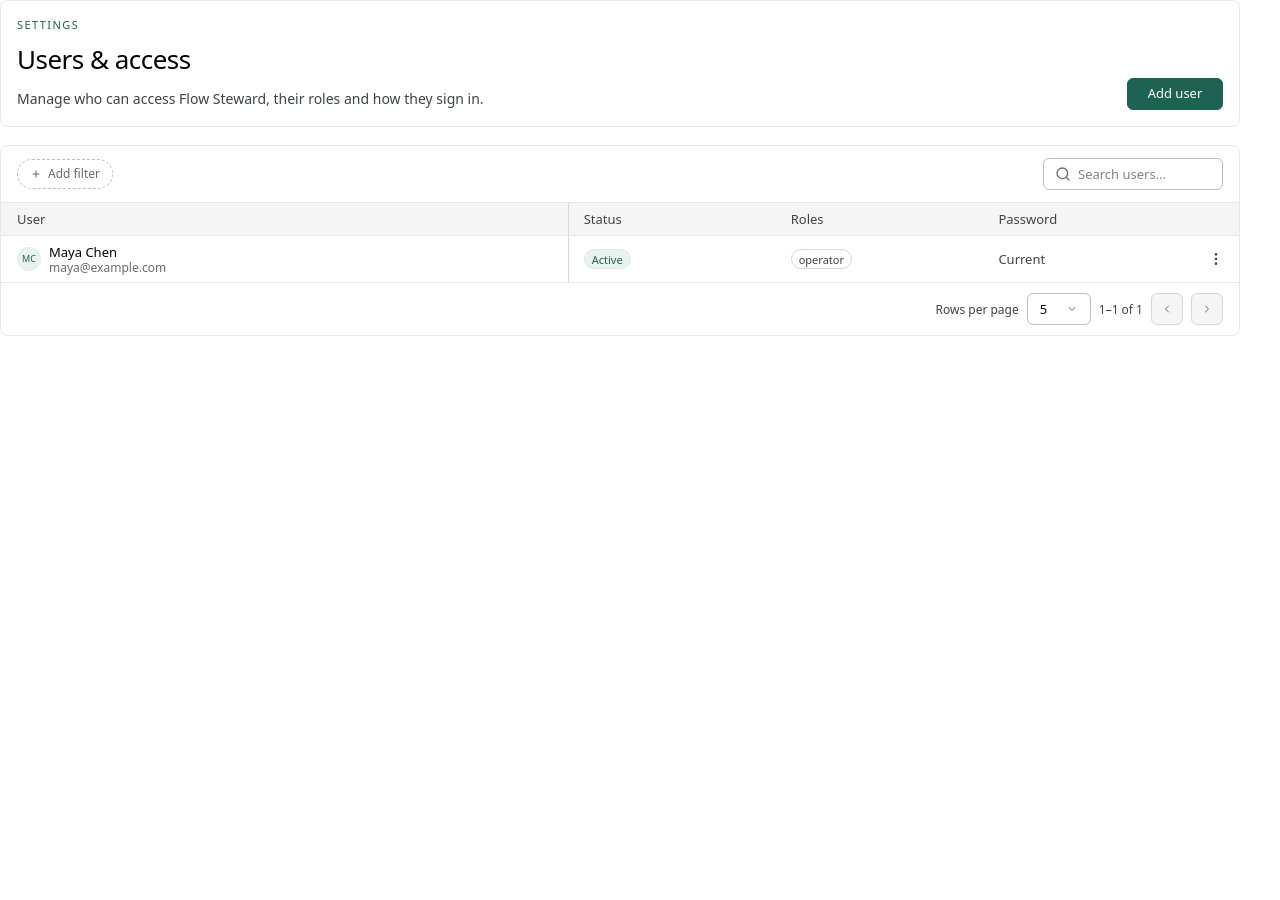
Test case: SettingsUsersPage › uses the canonical reset and deactivation confirmation consequences
Click the button named "Actions for Maya Chen" at (1216, 259), box [1200,243,1232,275]
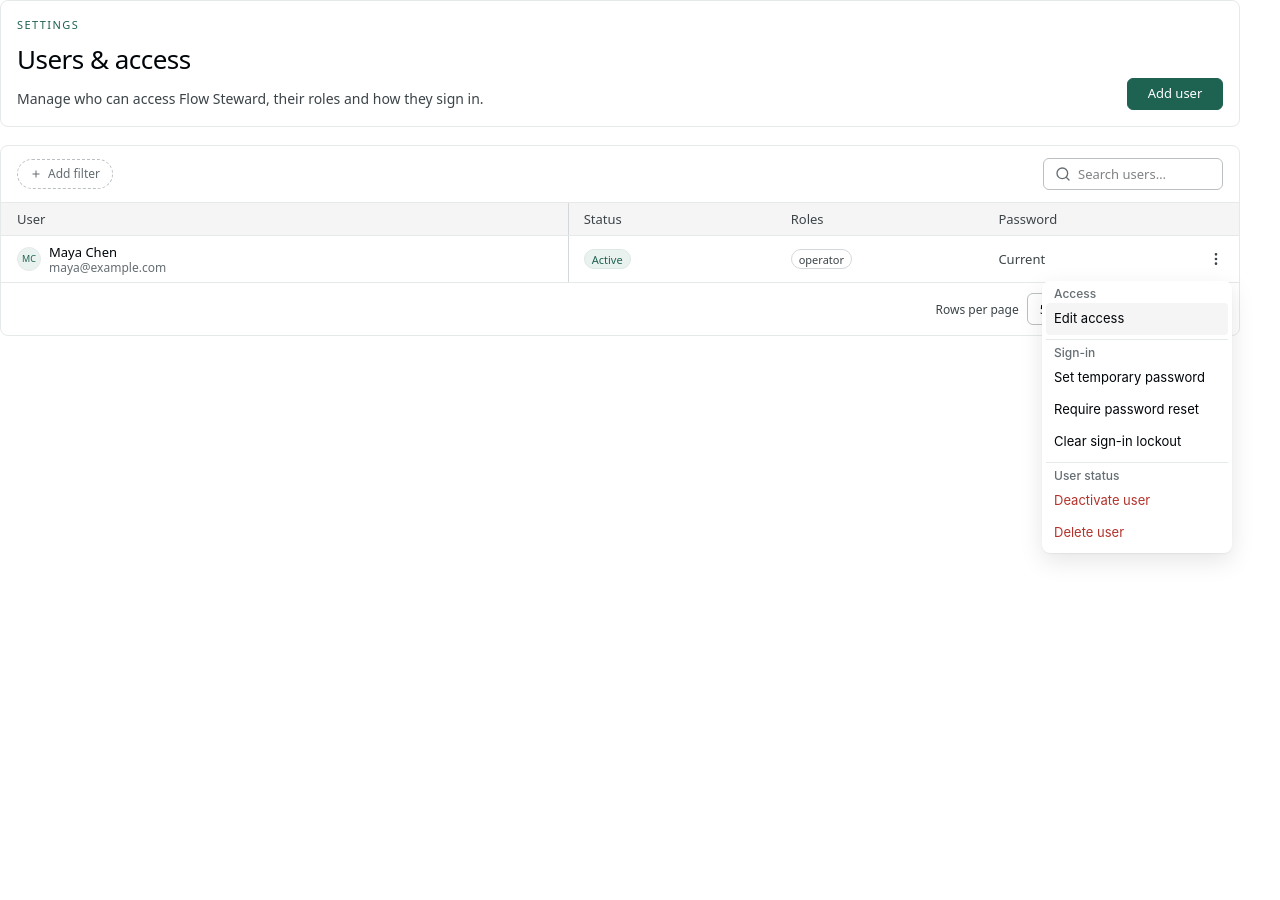
Click the menu item "Require password reset" at (1137, 410), box [1046,394,1228,426]
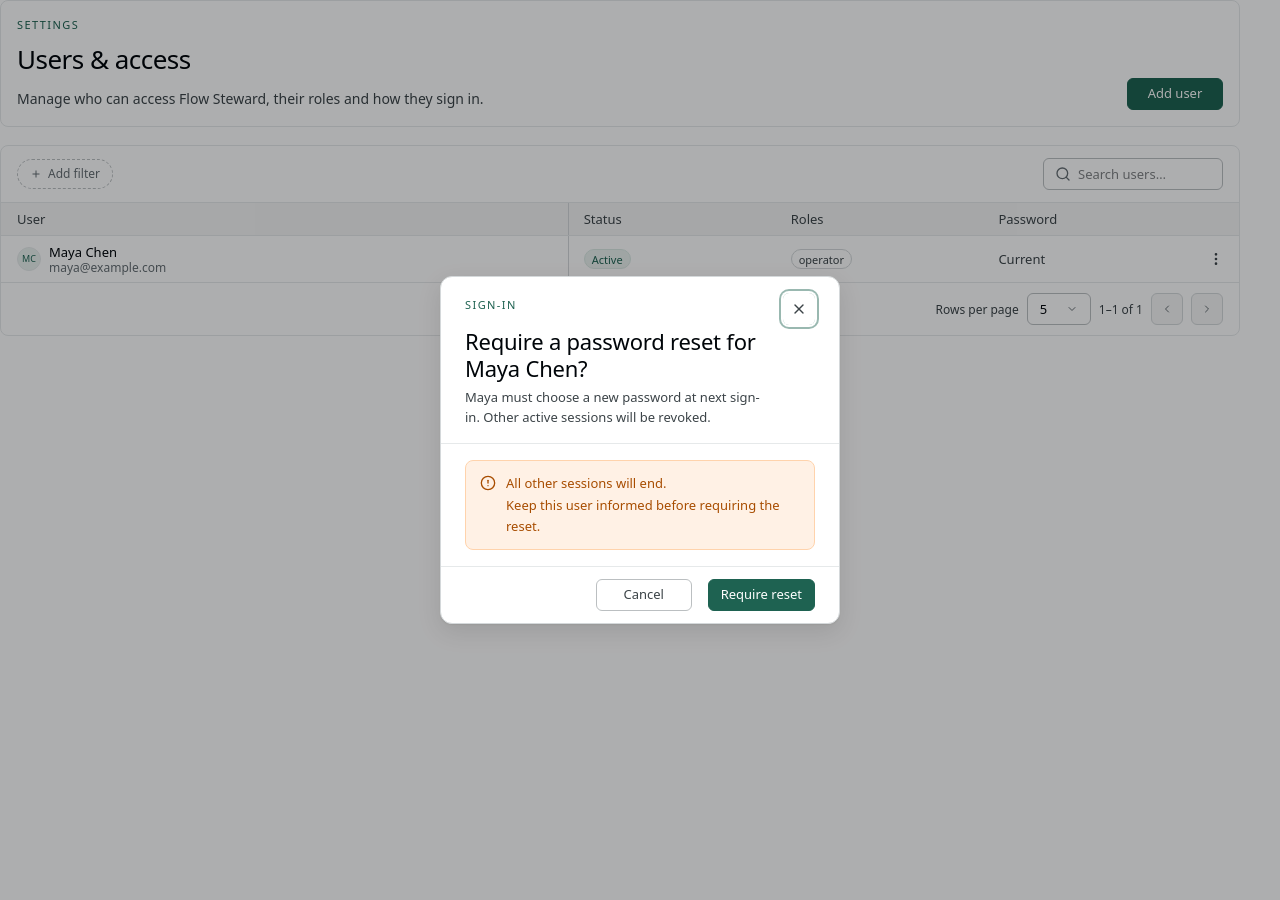
Now the text "Maya must choose a new password at next sign-in. Other active sessions will be revoked." is shown, box [465,388,760,426]
Now the text "All other sessions will end." is shown, box [506,474,666,492]
Click the button named "Close password reset confirmation" at (799, 309), box [783,293,815,325]
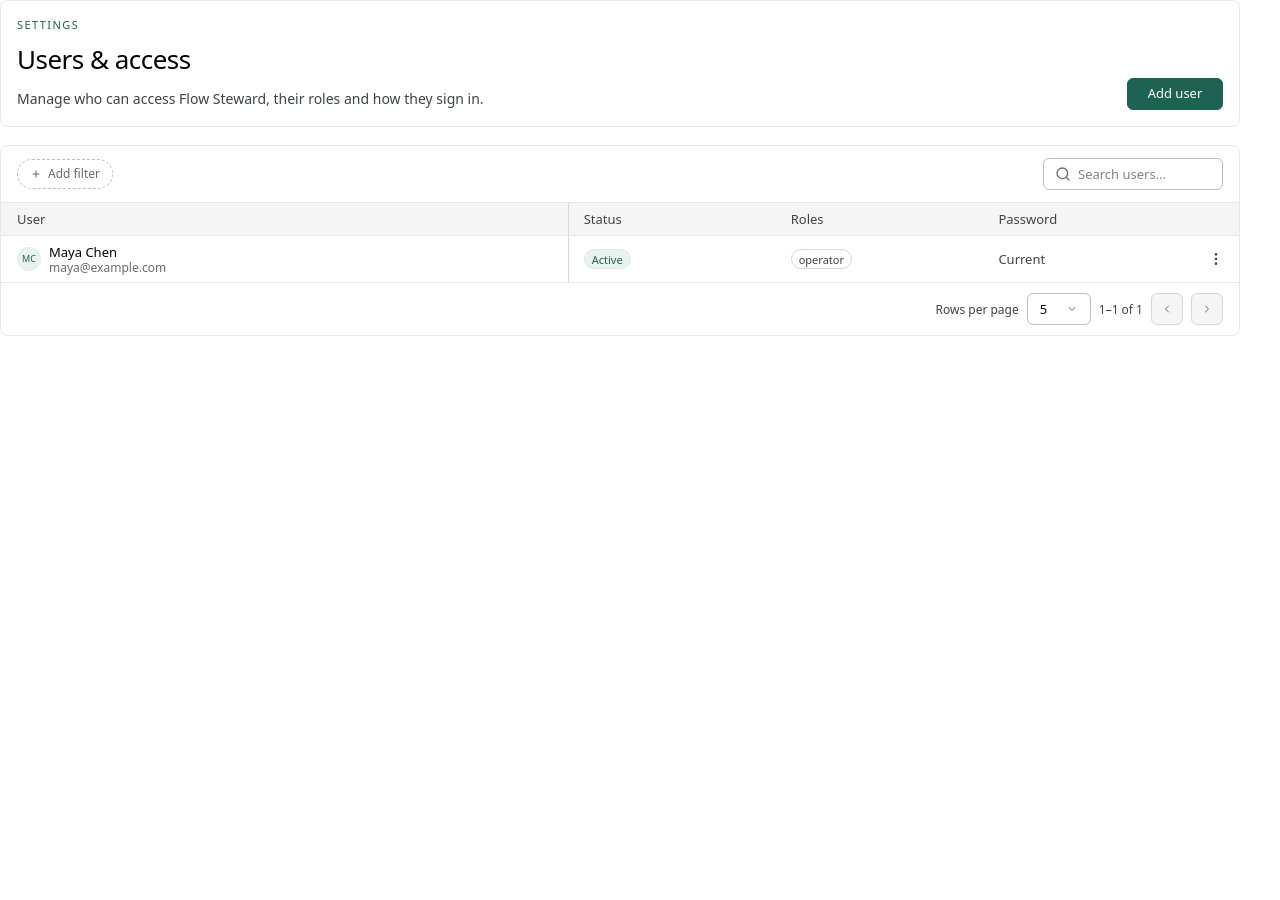
Click the button named "Actions for Maya Chen" at (1216, 259), box [1200,243,1232,275]
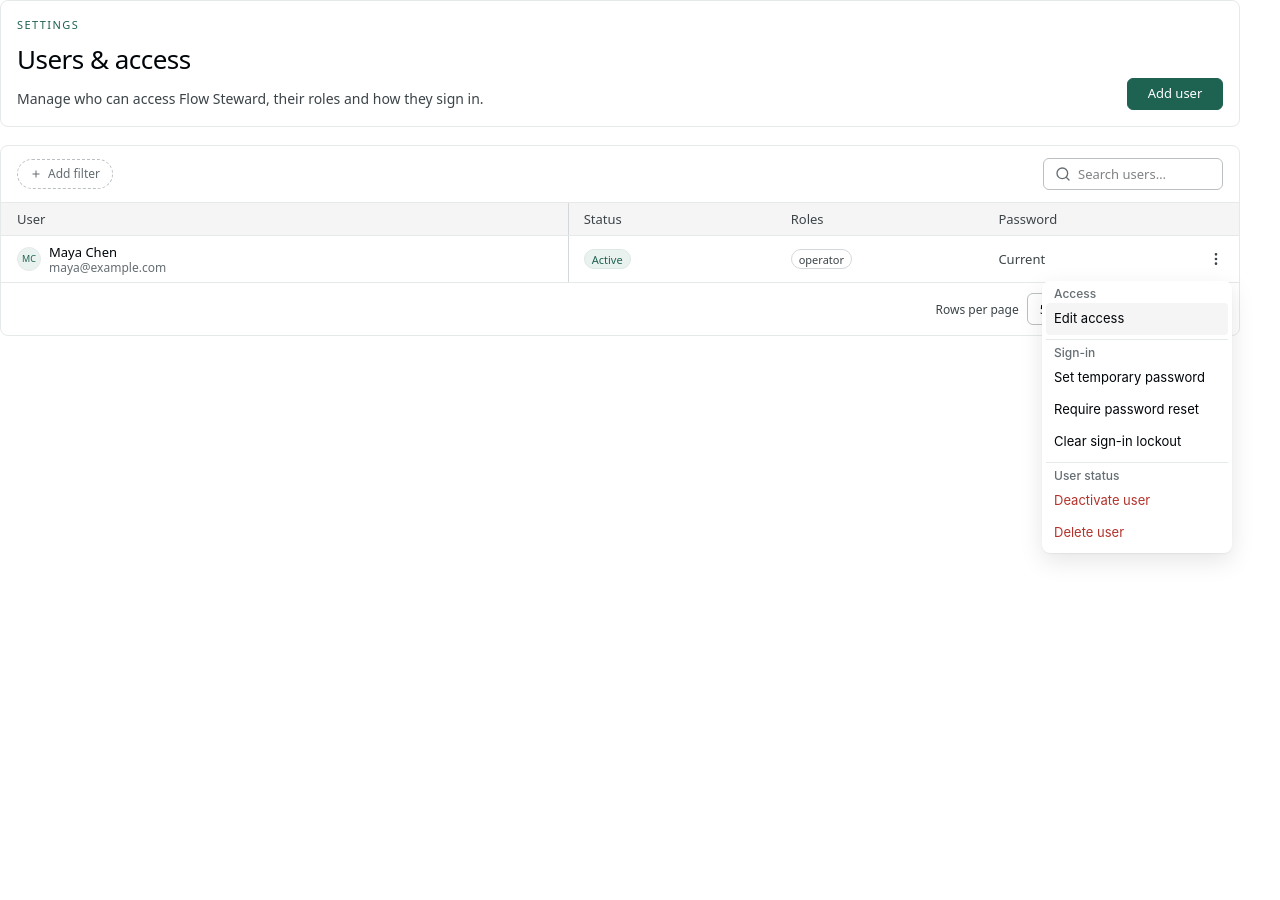
Click the menu item "Deactivate user" at (1137, 501), box [1046,485,1228,517]
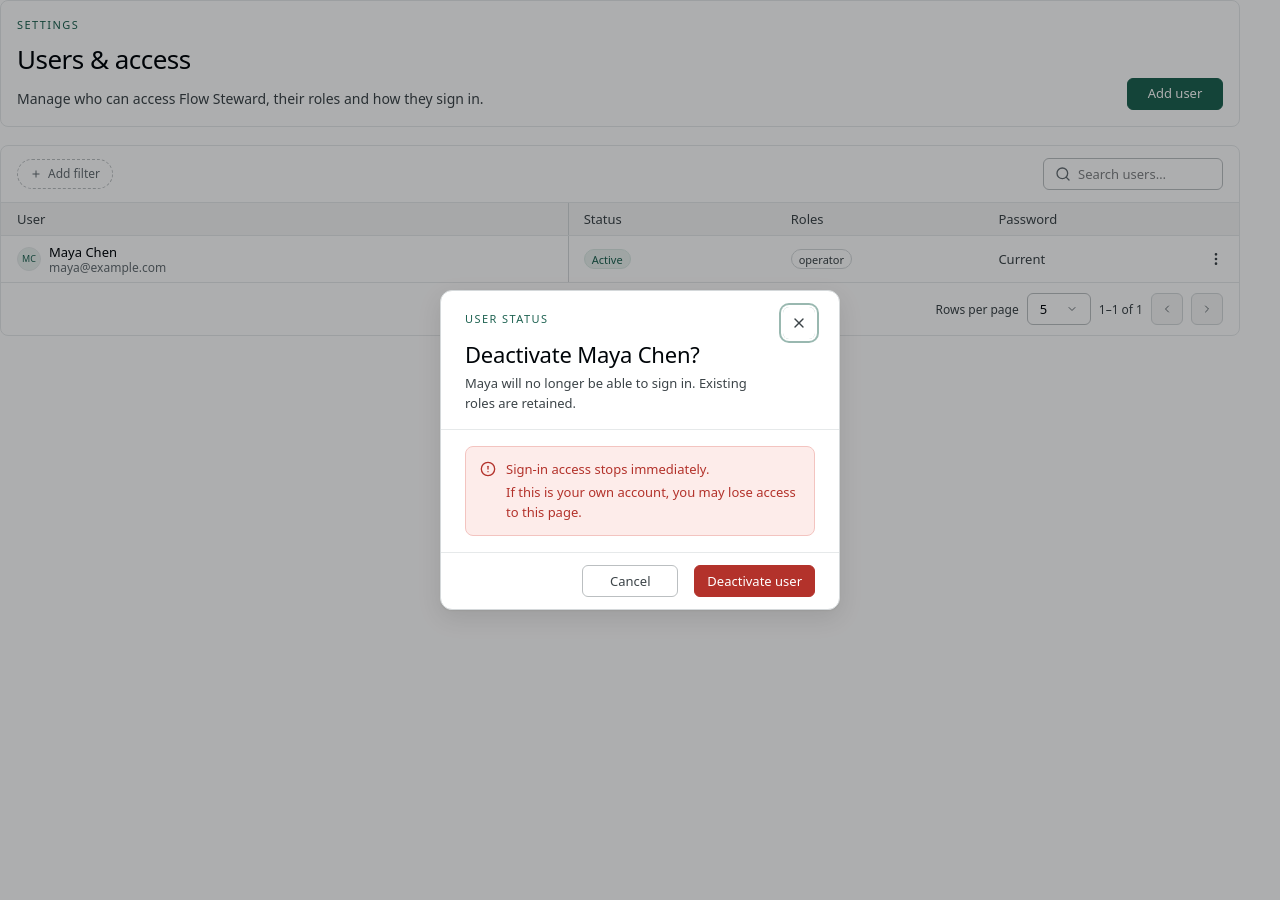
Now the text "Maya will no longer be able to sign in. Existing roles are retained." is shown, box [465,373,767,413]
Now the text "Sign-in access stops immediately." is shown, box [506,460,709,478]
Now the button named "Close deactivate user confirmation" is shown, box [783,307,815,339]
